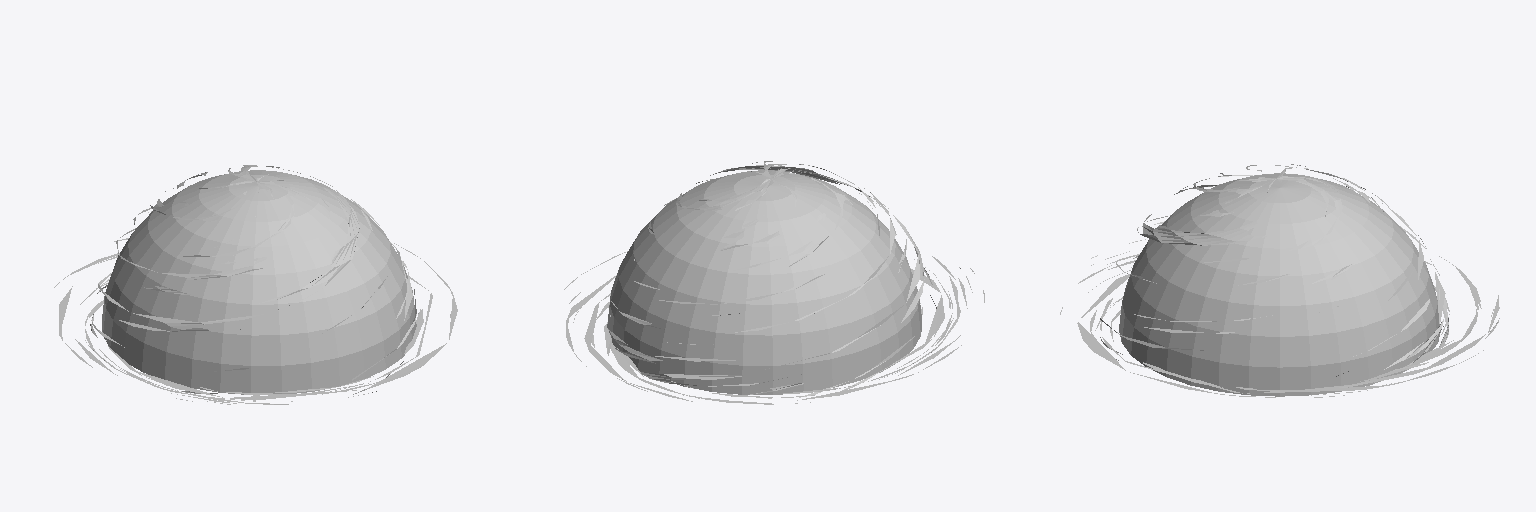
File: Dome1.obj
3 renders of one model, left to right at view 1: azimuth 30°, elevation 25°; view 2: azimuth 150°, elevation 25°; view 3: azimuth 270°, elevation 25°, orthographic.
Visible parts, largest first — view 1: Meshpart1, Meshpart3, Meshpart2; view 2: Meshpart1, Meshpart3, Meshpart2; view 3: Meshpart1, Meshpart3, Meshpart2.
Part boxes in pixels (x1,y1,x2,y2): Meshpart1: (102, 170, 416, 394); Meshpart3: (90, 165, 418, 394); Meshpart2: (54, 238, 457, 404); Meshpart1: (607, 170, 921, 394); Meshpart3: (608, 161, 936, 397); Meshpart2: (564, 251, 984, 404); Meshpart1: (1119, 173, 1440, 396); Meshpart3: (1100, 164, 1448, 376); Meshpart2: (1060, 239, 1499, 397).
Size of the model in its own units: 84.96 by 34.89 by 91.1.